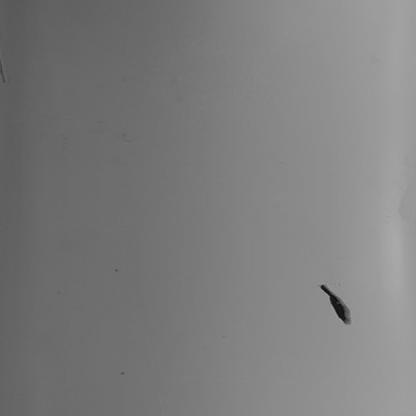kongdong: (319, 285, 354, 325)
